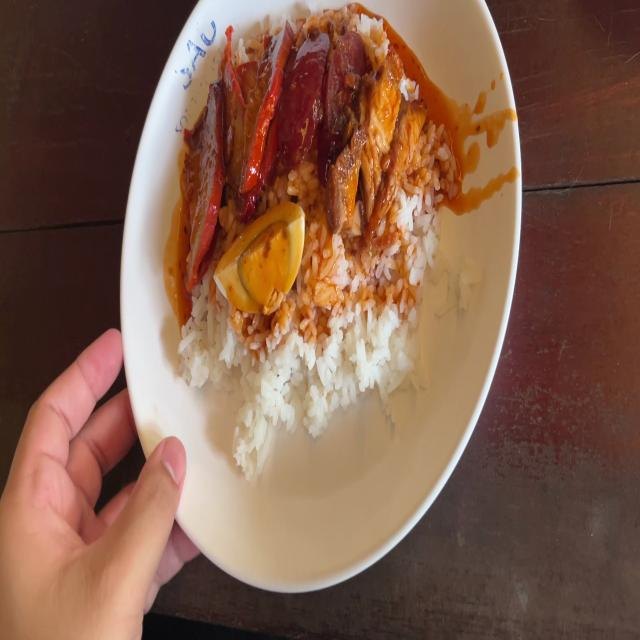01boiled_egg: (219, 210, 302, 304)
01chainese_sausage: (288, 31, 359, 158)
01crispy_pork: (356, 61, 405, 219), (333, 140, 362, 225), (400, 103, 429, 159)
01red_pork: (194, 24, 272, 221)
01red_pork_and_crispy_pork: (179, 4, 442, 428)
01rice: (299, 207, 434, 401), (180, 313, 306, 465)
